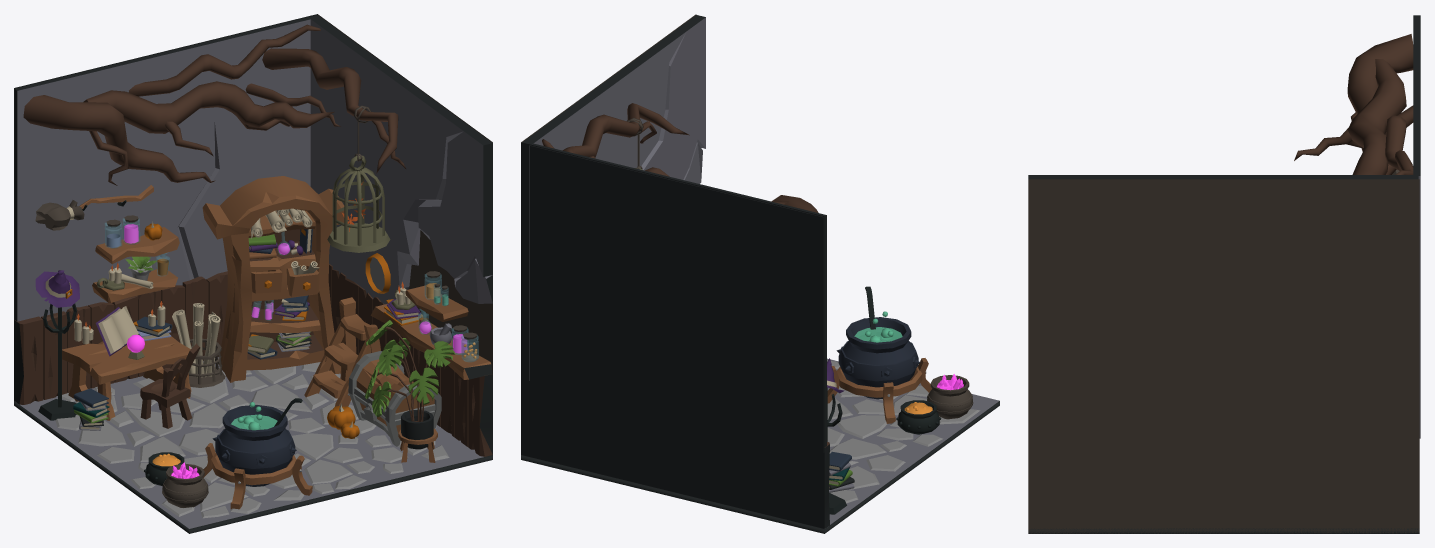
Rendered from mage_room_base_sf.fbx.
The picture shows the model from 3 angles, left to right: view 1: azimuth 30°, elevation 25°; view 2: azimuth 150°, elevation 25°; view 3: azimuth 270°, elevation 25°; orthographic projection. The views are drawn at different scales.
Visible parts, largest first — view 1: pCube128, polySurface180, polySurface331, polySurface474, polySurface128, polySurface126, polySurface317, polySurface324, polySurface379, pCube24, polySurface224, polySurface478 (+26 smaller); view 2: pPlane2, polySurface180, polySurface126, polySurface474, polySurface224, polySurface331, pCube128, polySurface268, polySurface263, pSphere31, pPlane49, pCube210; view 3: pPlane6, polySurface331, polySurface126, polySurface180, pCube128.
Part boxes in pixels (x1=…): pCube128: x1=14, y1=17, x2=310, y2=321; polySurface180: x1=308, y1=15, x2=492, y2=304; polySurface331: x1=23, y1=24, x2=405, y2=185; polySurface474: x1=55, y1=362, x2=449, y2=518; polySurface128: x1=202, y1=176, x2=344, y2=382; polySurface126: x1=14, y1=357, x2=492, y2=533; polySurface317: x1=14, y1=271, x2=227, y2=404; polySurface324: x1=328, y1=264, x2=492, y2=456; polySurface379: x1=364, y1=320, x2=455, y2=449; pCube24: x1=62, y1=336, x2=191, y2=420; polySurface224: x1=215, y1=405, x2=295, y2=486; polySurface478: x1=327, y1=155, x2=390, y2=252; pPlane2: x1=521, y1=142, x2=824, y2=528; polySurface180: x1=522, y1=15, x2=705, y2=183; polySurface126: x1=521, y1=358, x2=999, y2=533; polySurface474: x1=827, y1=360, x2=980, y2=503; polySurface224: x1=838, y1=317, x2=918, y2=399; polySurface331: x1=542, y1=103, x2=818, y2=212; pCube128: x1=529, y1=143, x2=826, y2=452; polySurface268: x1=827, y1=358, x2=931, y2=423; polySurface263: x1=927, y1=375, x2=972, y2=419; pSphere31: x1=896, y1=400, x2=941, y2=434; pPlane49: x1=829, y1=451, x2=854, y2=492; pCube210: x1=854, y1=311, x2=902, y2=342; pPlane6: x1=1028, y1=179, x2=1419, y2=533; polySurface331: x1=1294, y1=34, x2=1413, y2=174; polySurface126: x1=1028, y1=528, x2=1419, y2=533; polySurface180: x1=1028, y1=175, x2=1418, y2=179; pCube128: x1=1413, y1=15, x2=1420, y2=438.
Bounding box in the file's own units: 320 × 320 × 321.
